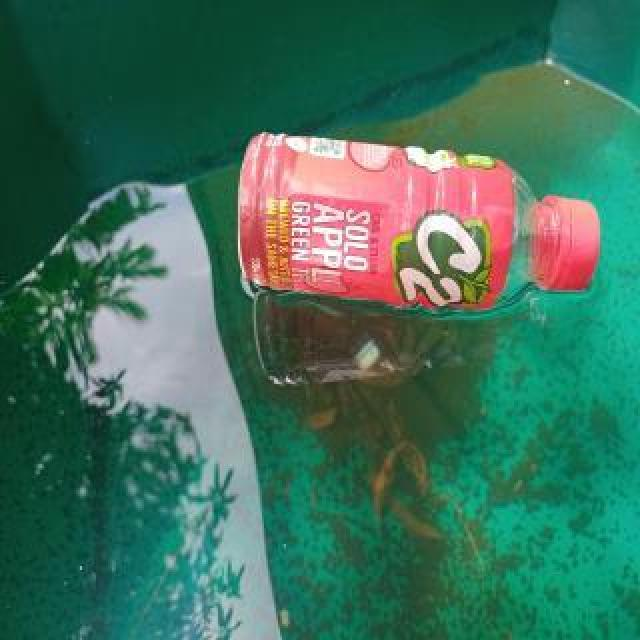bottle: (235, 128, 601, 316)
